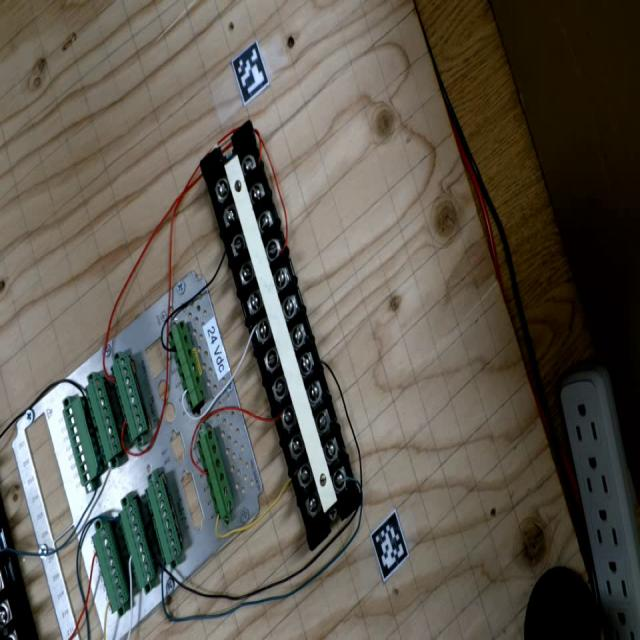Flathead_Block: (192, 120, 370, 551)
Terminal_1: (194, 427, 237, 522), (165, 320, 209, 412)
Terminal_2: (107, 353, 150, 444), (116, 500, 158, 592), (89, 522, 131, 614), (82, 374, 124, 465), (142, 476, 183, 565)
